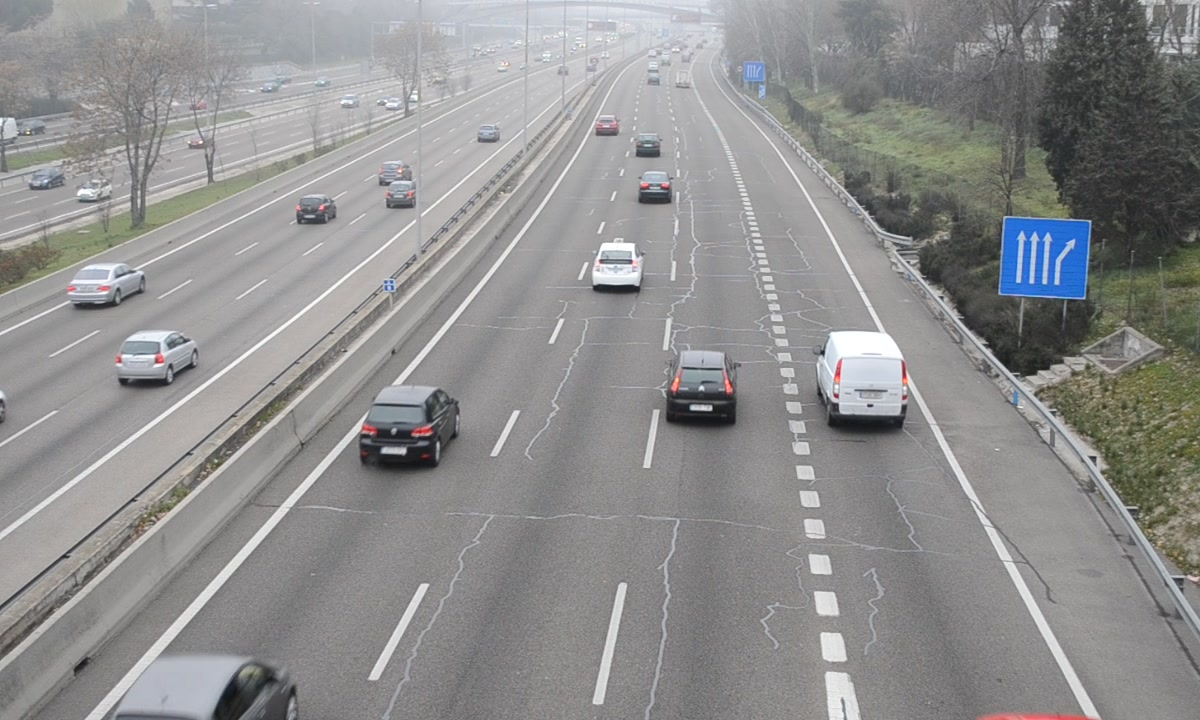car: (357, 387, 460, 464), (666, 351, 735, 421), (591, 240, 641, 292), (637, 170, 674, 206), (634, 130, 662, 158), (595, 111, 616, 136)
van: (819, 331, 909, 429)
